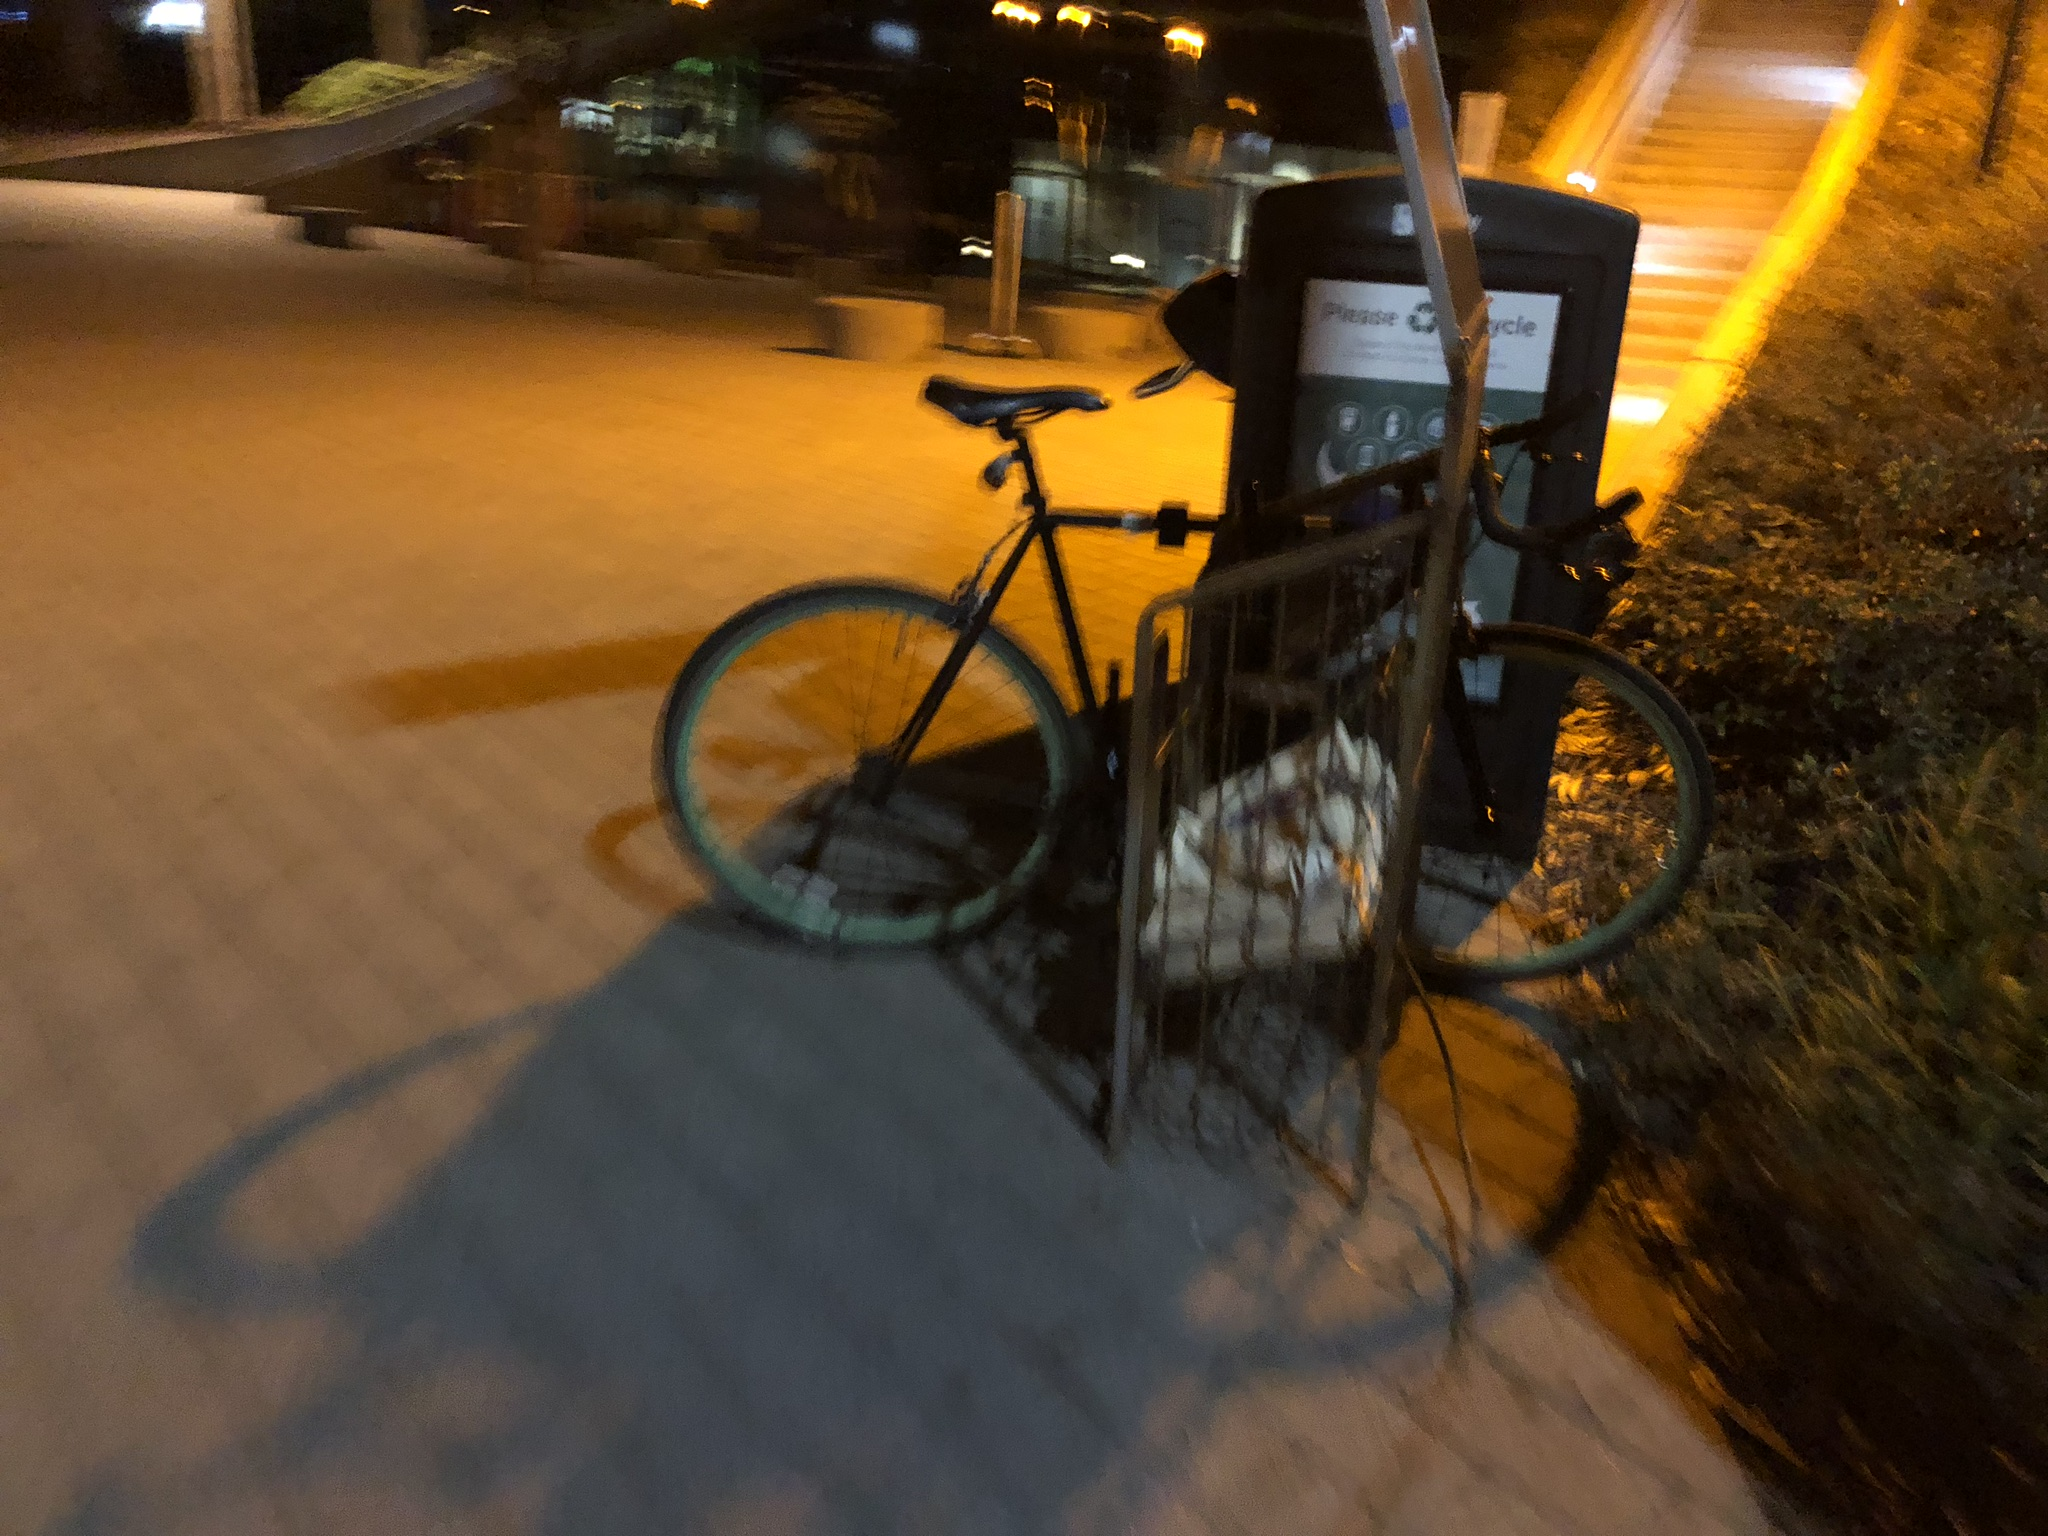Obstacle: (627, 153, 1693, 1205), (1609, 239, 2032, 1504)
